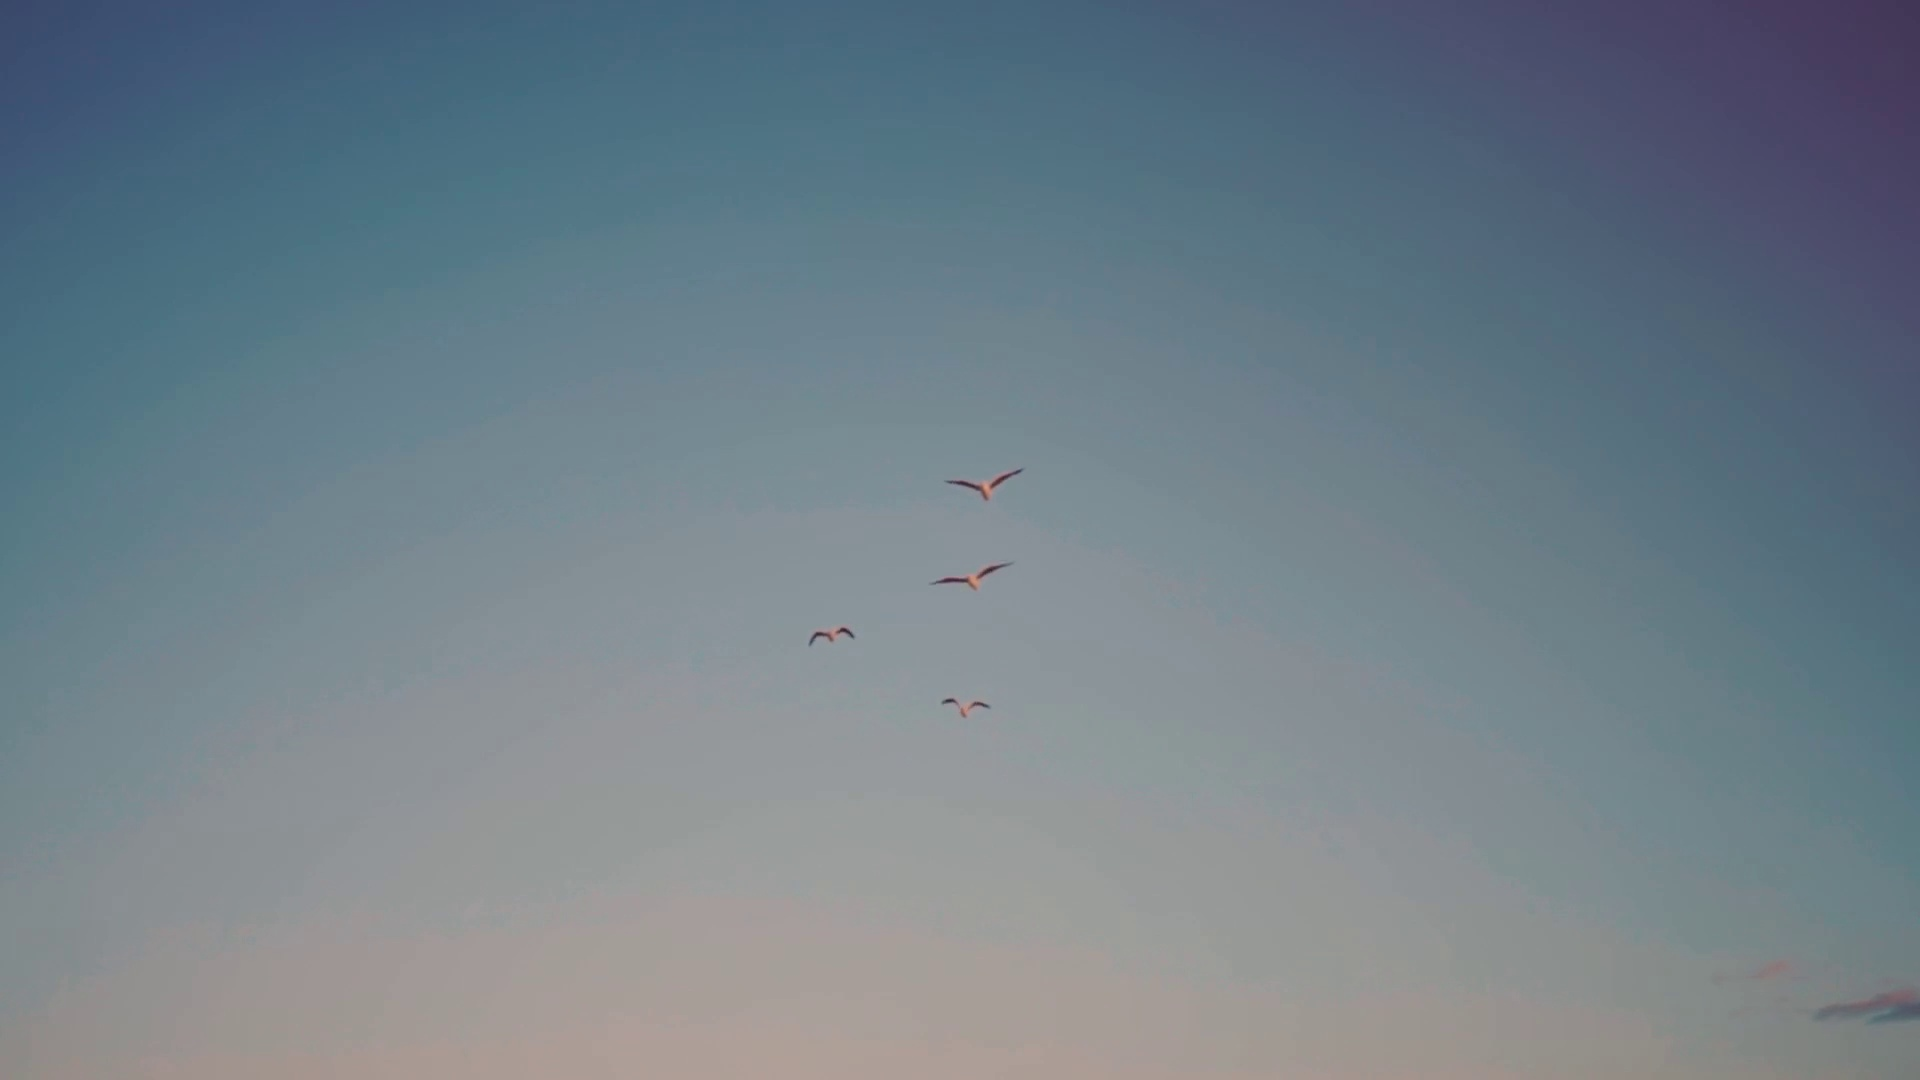bird: (942, 459, 1022, 500), (926, 556, 1010, 589), (940, 694, 992, 719), (808, 624, 855, 646)
